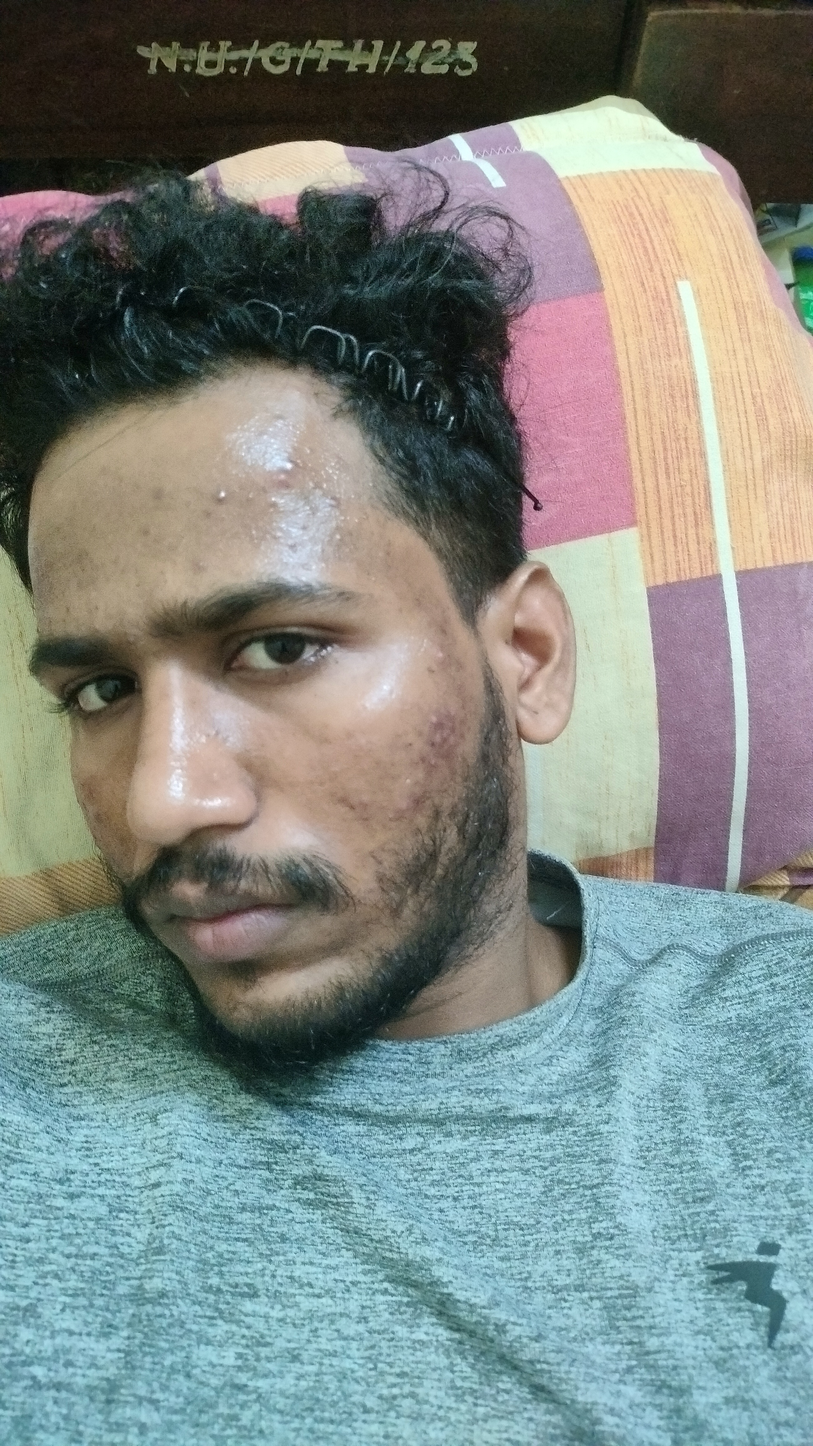closed_comedone: (315, 464, 352, 493)
nodule: (277, 453, 304, 478)
papule: (208, 488, 232, 504)
pustule: (425, 712, 448, 730)
